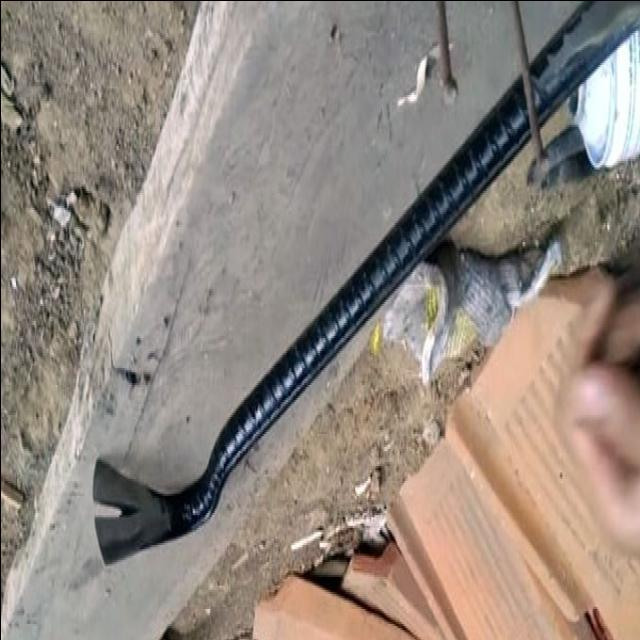Linggis: (93, 5, 640, 567)
